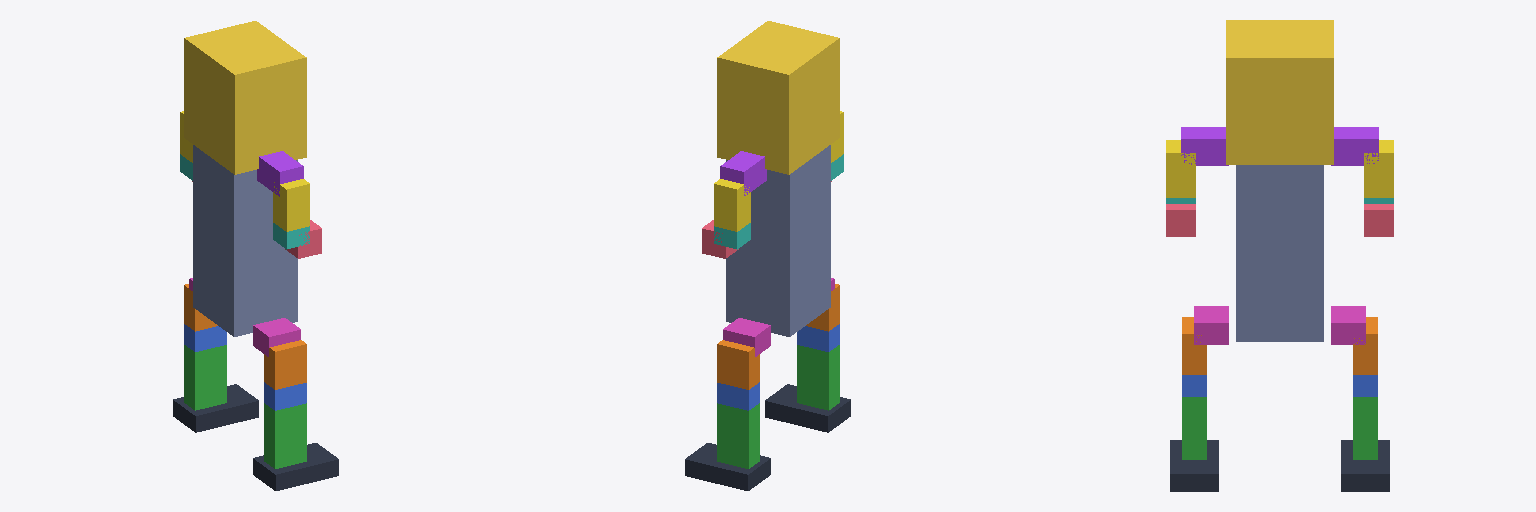
URDF robot description (pikachu_sample_links):
<?xml version="1.0" encoding="UTF-8"?>
<robot name="pikachu_sample_links">
  <!-- 骨盆半宽 -->
  <!-- 肩高/躯干高 -->
  <!-- 躯干前后厚 -->
  <!-- 躯干左右宽 -->
  
  
  <!-- 大腿长(重点) -->
  <!-- 小腿长(重点) -->
  
  
  
  
  
  
  
  
  
  
  
  <material name="torso_blue"><color rgba="0.55 0.60 0.75 1"/></material>
  <material name="head_yellow"><color rgba="0.98 0.85 0.30 1"/></material>
  <material name="leg_hip_pitch"><color rgba="0.90 0.35 0.80 1"/></material>
  <material name="leg_hip_roll"><color rgba="1.00 0.60 0.20 1"/></material>
  <material name="leg_hip_yaw"><color rgba="0.35 0.55 1.00 1"/></material>
  <material name="leg_knee"><color rgba="0.30 0.80 0.35 1"/></material>
  <material name="leg_ankle"><color rgba="0.25 0.28 0.35 1"/></material>
  <material name="arm_pitch"><color rgba="0.75 0.35 1.00 1"/></material>
  <material name="arm_roll"><color rgba="1.00 0.90 0.25 1"/></material>
  <material name="arm_yaw"><color rgba="0.30 0.85 0.80 1"/></material>
  <material name="arm_elbow"><color rgba="1.00 0.45 0.55 1"/></material>

  

  

  <link name="base_link"><visual><origin xyz="0 0 0.1" rpy="0 0 0"/><geometry><box size="0.08 0.09 0.2"/></geometry><material name="torso_blue"/></visual><inertial><origin xyz="0.000000000 0.000000000 0.100000000" rpy="0.000000000 0.000000000 0.000000000"/><mass value="2.16000"/><inertia ixx="0.008658" iyy="0.008352" izz="0.002610" ixy="0" ixz="0" iyz="0"/></inertial></link>

  <joint name="head_joint" type="revolute"><origin xyz="0 0 0.26" rpy="0 0 0"/><parent link="base_link"/><child link="head_link"/><axis xyz="0 1 0"/><limit lower="-0.8" upper="0.8" effort="2"/><velocity>2</velocity></joint>
  <link name="head_link"><visual><origin xyz="0 0 0" rpy="0 0 0"/><geometry><box size="0.09 0.11 0.12"/></geometry><material name="head_yellow"/></visual><inertial><origin xyz="0.000000000 0.000000000 0.000000000" rpy="0.000000000 0.000000000 0.000000000"/><mass value="1.78200"/><inertia ixx="0.003935" iyy="0.003341" izz="0.003000" ixy="0" ixz="0" iyz="0"/></inertial></link>

  <joint name="left_hip_pitch_joint" type="revolute"><origin xyz="0 0.0515 0" rpy="0 0 0"/><parent link="base_link"/><child link="left_hip_pitch_link"/><axis xyz="0 -1 0"/><limit lower="0" upper="2.44" effort="12.5"/><velocity>2</velocity></joint>
  <joint name="right_hip_pitch_joint" type="revolute"><origin xyz="0 -0.0515 0" rpy="0 0 0"/><parent link="base_link"/><child link="right_hip_pitch_link"/><axis xyz="0 -1 0"/><limit lower="0" upper="2.44" effort="12.5"/><velocity>2</velocity></joint>
  <joint name="left_arm_pitch_joint" type="revolute"><origin xyz="0 0.0515 0.2" rpy="0 0 0"/><parent link="base_link"/><child link="left_arm_pitch_link"/><axis xyz="0 -1 0"/><limit lower="-1.57" upper="1.57" effort="2"/><velocity>2</velocity></joint>
  <joint name="right_arm_pitch_joint" type="revolute"><origin xyz="0 -0.0515 0.2" rpy="0 0 0"/><parent link="base_link"/><child link="right_arm_pitch_link"/><axis xyz="0 -1 0"/><limit lower="-1.57" upper="1.57" effort="2"/><velocity>2</velocity></joint>

  
    <link name="left_hip_pitch_link"><visual><origin xyz="0 0.01775 0" rpy="0 0 0"/><geometry><box size="0.04 0.0355 0.025"/></geometry><material name="leg_hip_pitch"/></visual><inertial><origin xyz="0.000000000 0.017750000 0.000000000" rpy="0.000000000 0.000000000 0.000000000"/><mass value="0.05325"/><inertia ixx="0.000008" iyy="0.000010" izz="0.000013" ixy="0" ixz="0" iyz="0"/></inertial></link>
    <joint name="left_hip_roll_joint" type="revolute"><origin xyz="0 0.0355 0" rpy="0 0 0"/><parent link="left_hip_pitch_link"/><child link="left_hip_roll_link"/><axis xyz="1 0 0"/><limit lower="-0.09" upper="0.26" effort="9"/><velocity>1</velocity></joint>
    <link name="left_hip_roll_link"><visual><origin xyz="0 0 -0.023" rpy="0 0 0"/><geometry><box size="0.04 0.025 0.046"/></geometry><material name="leg_hip_roll"/></visual><inertial><origin xyz="0.000000000 0.000000000 -0.023000000" rpy="0.000000000 0.000000000 0.000000000"/><mass value="0.06900"/><inertia ixx="0.000016" iyy="0.000021" izz="0.000013" ixy="0" ixz="0" iyz="0"/></inertial></link>
    <joint name="left_hip_yaw_joint" type="revolute"><origin xyz="0 0 -0.046" rpy="0 0 0"/><parent link="left_hip_roll_link"/><child link="left_hip_yaw_link"/><axis xyz="0 0 1"/><limit lower="-0.09" upper="0.26" effort="9"/><velocity>1</velocity></joint>
    <link name="left_hip_yaw_link"><visual><origin xyz="0 0 -0.0125" rpy="0 0 0"/><geometry><box size="0.04 0.025 0.025"/></geometry><material name="leg_hip_yaw"/></visual><inertial><origin xyz="0.000000000 0.000000000 -0.012500000" rpy="0.000000000 0.000000000 0.000000000"/><mass value="0.03750"/><inertia ixx="0.000004" iyy="0.000007" izz="0.000007" ixy="0" ixz="0" iyz="0"/></inertial></link>
    <joint name="left_knee_joint" type="revolute"><origin xyz="0 0 -0.025" rpy="0 0 0"/><parent link="left_hip_yaw_link"/><child link="left_knee_link"/><axis xyz="0 1 0"/><limit lower="0" upper="1.57" effort="12.5"/><velocity>3</velocity></joint>
    <link name="left_knee_link"><visual><origin xyz="0 0 -0.035" rpy="0 0 0"/><geometry><box size="0.04 0.025 0.070"/></geometry><material name="leg_knee"/></visual><inertial><origin xyz="0.000000000 0.000000000 -0.035000000" rpy="0.000000000 0.000000000 0.000000000"/><mass value="0.10500"/><inertia ixx="0.000048" iyy="0.000057" izz="0.000019" ixy="0" ixz="0" iyz="0"/></inertial></link>
    <joint name="left_ankle_joint" type="revolute"><origin xyz="0 0 -0.07" rpy="0 0 0"/><parent link="left_knee_link"/><child link="left_ankle_link"/><axis xyz="0 -1 0"/><limit lower="-0.52" upper="1.05" effort="9"/><velocity>2</velocity></joint>
    <link name="left_ankle_link"><visual><origin xyz="0.013333333333333334 0 -0.01" rpy="0 0 0"/><geometry><box size="0.08 0.05 0.02"/></geometry><material name="leg_ankle"/></visual><inertial><origin xyz="0.013333333 0.000000000 -0.010000000" rpy="0.000000000 0.000000000 0.000000000"/><mass value="0.12000"/><inertia ixx="0.000029" iyy="0.000068" izz="0.000089" ixy="0" ixz="0" iyz="0"/></inertial></link>
  
  
    <link name="right_hip_pitch_link"><visual><origin xyz="0 -0.01775 0" rpy="0 0 0"/><geometry><box size="0.04 0.0355 0.025"/></geometry><material name="leg_hip_pitch"/></visual><inertial><origin xyz="0.000000000 -0.017750000 0.000000000" rpy="0.000000000 0.000000000 0.000000000"/><mass value="0.05325"/><inertia ixx="0.000008" iyy="0.000010" izz="0.000013" ixy="0" ixz="0" iyz="0"/></inertial></link>
    <joint name="right_hip_roll_joint" type="revolute"><origin xyz="0 -0.0355 0" rpy="0 0 0"/><parent link="right_hip_pitch_link"/><child link="right_hip_roll_link"/><axis xyz="-1 0 0"/><limit lower="-0.09" upper="0.26" effort="9"/><velocity>1</velocity></joint>
    <link name="right_hip_roll_link"><visual><origin xyz="0 0 -0.023" rpy="0 0 0"/><geometry><box size="0.04 0.025 0.046"/></geometry><material name="leg_hip_roll"/></visual><inertial><origin xyz="0.000000000 0.000000000 -0.023000000" rpy="0.000000000 0.000000000 0.000000000"/><mass value="0.06900"/><inertia ixx="0.000016" iyy="0.000021" izz="0.000013" ixy="0" ixz="0" iyz="0"/></inertial></link>
    <joint name="right_hip_yaw_joint" type="revolute"><origin xyz="0 0 -0.046" rpy="0 0 0"/><parent link="right_hip_roll_link"/><child link="right_hip_yaw_link"/><axis xyz="0 0 -1"/><limit lower="-0.09" upper="0.26" effort="9"/><velocity>1</velocity></joint>
    <link name="right_hip_yaw_link"><visual><origin xyz="0 0 -0.0125" rpy="0 0 0"/><geometry><box size="0.04 0.025 0.025"/></geometry><material name="leg_hip_yaw"/></visual><inertial><origin xyz="0.000000000 0.000000000 -0.012500000" rpy="0.000000000 0.000000000 0.000000000"/><mass value="0.03750"/><inertia ixx="0.000004" iyy="0.000007" izz="0.000007" ixy="0" ixz="0" iyz="0"/></inertial></link>
    <joint name="right_knee_joint" type="revolute"><origin xyz="0 0 -0.025" rpy="0 0 0"/><parent link="right_hip_yaw_link"/><child link="right_knee_link"/><axis xyz="0 1 0"/><limit lower="0" upper="1.57" effort="12.5"/><velocity>3</velocity></joint>
    <link name="right_knee_link"><visual><origin xyz="0 0 -0.035" rpy="0 0 0"/><geometry><box size="0.04 0.025 0.070"/></geometry><material name="leg_knee"/></visual><inertial><origin xyz="0.000000000 0.000000000 -0.035000000" rpy="0.000000000 0.000000000 0.000000000"/><mass value="0.10500"/><inertia ixx="0.000048" iyy="0.000057" izz="0.000019" ixy="0" ixz="0" iyz="0"/></inertial></link>
    <joint name="right_ankle_joint" type="revolute"><origin xyz="0 0 -0.07" rpy="0 0 0"/><parent link="right_knee_link"/><child link="right_ankle_link"/><axis xyz="0 -1 0"/><limit lower="-0.52" upper="1.05" effort="9"/><velocity>2</velocity></joint>
    <link name="right_ankle_link"><visual><origin xyz="0.013333333333333334 0 -0.01" rpy="0 0 0"/><geometry><box size="0.08 0.05 0.02"/></geometry><material name="leg_ankle"/></visual><inertial><origin xyz="0.013333333 0.000000000 -0.010000000" rpy="0.000000000 0.000000000 0.000000000"/><mass value="0.12000"/><inertia ixx="0.000029" iyy="0.000068" izz="0.000089" ixy="0" ixz="0" iyz="0"/></inertial></link>
  
  
    <link name="left_arm_pitch_link"><visual><origin xyz="0 0.0245 0" rpy="0 0 0"/><geometry><box size="0.03 0.049 0.03"/></geometry><material name="arm_pitch"/></visual><inertial><origin xyz="0.000000000 0.024500000 0.000000000" rpy="0.000000000 0.000000000 0.000000000"/><mass value="0.06615"/><inertia ixx="0.000018" iyy="0.000010" izz="0.000018" ixy="0" ixz="0" iyz="0"/></inertial></link>
    <joint name="left_arm_roll_joint" type="fixed"><origin xyz="0 0.049 0" rpy="0 0 0"/><parent link="left_arm_pitch_link"/><child link="left_arm_roll_link"/><velocity>2</velocity></joint>
    <link name="left_arm_roll_link"><visual><origin xyz="0 0 -0.0255" rpy="0 0 0"/><geometry><box size="0.03 0.03 0.051"/></geometry><material name="arm_roll"/></visual><inertial><origin xyz="0.000000000 0.000000000 -0.025500000" rpy="0.000000000 0.000000000 0.000000000"/><mass value="0.06885"/><inertia ixx="0.000020" iyy="0.000020" izz="0.000010" ixy="0" ixz="0" iyz="0"/></inertial></link>
    <joint name="left_arm_yaw_joint" type="fixed"><origin xyz="0 0 -0.051" rpy="0 0 0"/><parent link="left_arm_roll_link"/><child link="left_arm_yaw_link"/><velocity>2</velocity></joint>
    <link name="left_arm_yaw_link"><visual><origin xyz="0 0 -0.0105" rpy="0 0 0"/><geometry><box size="0.03 0.03 0.021"/></geometry><material name="arm_yaw"/></visual><inertial><origin xyz="0.000000000 0.000000000 -0.010500000" rpy="0.000000000 0.000000000 0.000000000"/><mass value="0.02835"/><inertia ixx="0.000003" iyy="0.000003" izz="0.000004" ixy="0" ixz="0" iyz="0"/></inertial></link>
    <joint name="left_elbow_joint" type="fixed"><origin xyz="0 0 -0.021" rpy="0 -1.57 0"/><parent link="left_arm_yaw_link"/><child link="left_elbow_link"/><velocity>2</velocity></joint>
    <link name="left_elbow_link"><visual><origin xyz="0 0 -0.015" rpy="0 0 0"/><geometry><box size="0.03 0.03 0.03"/></geometry><material name="arm_elbow"/></visual><inertial><origin xyz="0.000000000 0.000000000 -0.015000000" rpy="0.000000000 0.000000000 0.000000000"/><mass value="0.04050"/><inertia ixx="0.000006" iyy="0.000006" izz="0.000006" ixy="0" ixz="0" iyz="0"/></inertial></link>
  
  
    <link name="right_arm_pitch_link"><visual><origin xyz="0 -0.0245 0" rpy="0 0 0"/><geometry><box size="0.03 0.049 0.03"/></geometry><material name="arm_pitch"/></visual><inertial><origin xyz="0.000000000 -0.024500000 0.000000000" rpy="0.000000000 0.000000000 0.000000000"/><mass value="0.06615"/><inertia ixx="0.000018" iyy="0.000010" izz="0.000018" ixy="0" ixz="0" iyz="0"/></inertial></link>
    <joint name="right_arm_roll_joint" type="revolute"><origin xyz="0 -0.049 0" rpy="0 0 0"/><parent link="right_arm_pitch_link"/><child link="right_arm_roll_link"/><axis xyz="-1 0 0"/><limit lower="-1.57" upper="1.57" effort="2"/><velocity>2</velocity></joint>
    <link name="right_arm_roll_link"><visual><origin xyz="0 0 -0.0255" rpy="0 0 0"/><geometry><box size="0.03 0.03 0.051"/></geometry><material name="arm_roll"/></visual><inertial><origin xyz="0.000000000 0.000000000 -0.025500000" rpy="0.000000000 0.000000000 0.000000000"/><mass value="0.06885"/><inertia ixx="0.000020" iyy="0.000020" izz="0.000010" ixy="0" ixz="0" iyz="0"/></inertial></link>
    <joint name="right_arm_yaw_joint" type="revolute"><origin xyz="0 0 -0.051" rpy="0 0 0"/><parent link="right_arm_roll_link"/><child link="right_arm_yaw_link"/><axis xyz="0 0 -1"/><limit lower="-1.57" upper="1.57" effort="2"/><velocity>2</velocity></joint>
    <link name="right_arm_yaw_link"><visual><origin xyz="0 0 -0.0105" rpy="0 0 0"/><geometry><box size="0.03 0.03 0.021"/></geometry><material name="arm_yaw"/></visual><inertial><origin xyz="0.000000000 0.000000000 -0.010500000" rpy="0.000000000 0.000000000 0.000000000"/><mass value="0.02835"/><inertia ixx="0.000003" iyy="0.000003" izz="0.000004" ixy="0" ixz="0" iyz="0"/></inertial></link>
    <joint name="right_elbow_joint" type="fixed"><origin xyz="0 0 -0.021" rpy="0 -1.57 0"/><parent link="right_arm_yaw_link"/><child link="right_elbow_link"/><velocity>2</velocity></joint>
    <link name="right_elbow_link"><visual><origin xyz="0 0 -0.015" rpy="0 0 0"/><geometry><box size="0.03 0.03 0.03"/></geometry><material name="arm_elbow"/></visual><inertial><origin xyz="0.000000000 0.000000000 -0.015000000" rpy="0.000000000 0.000000000 0.000000000"/><mass value="0.04050"/><inertia ixx="0.000006" iyy="0.000006" izz="0.000006" ixy="0" ixz="0" iyz="0"/></inertial></link>
  
</robot>

--- Render facts (derived) ---
Views: 3 orthographic renders of the robot side by side, from view 1: azimuth 30°, elevation 25°; view 2: azimuth 150°, elevation 25°; view 3: azimuth 270°, elevation 25°.
Model pikachu_sample_links with 20 links and 19 joints (15 revolute, 4 fixed), rooted at base_link, posed all joints at 0.
Visible links, largest first — view 1: head_link, base_link, left_knee_link, right_knee_link, left_ankle_link, right_ankle_link, right_hip_roll_link, right_arm_roll_link, right_arm_pitch_link, right_hip_pitch_link, right_hip_yaw_link, left_hip_yaw_link (+3 smaller); view 2: head_link, base_link, right_knee_link, left_knee_link, right_ankle_link, left_ankle_link, left_hip_roll_link, left_arm_roll_link, left_arm_pitch_link, left_hip_pitch_link, left_hip_yaw_link, right_hip_yaw_link (+3 smaller); view 3: head_link, base_link, left_ankle_link, right_ankle_link, left_arm_pitch_link, right_arm_pitch_link, left_knee_link, right_knee_link, right_arm_roll_link, left_arm_roll_link, right_hip_pitch_link, left_hip_pitch_link (+6 smaller).
Link boxes in pixels (x1,y1,x2,y2): head_link: (184,21,306,174); base_link: (193,145,297,336); left_knee_link: (184,345,226,410); right_knee_link: (264,403,306,468); left_ankle_link: (173,384,258,432); right_ankle_link: (253,443,338,490); right_hip_roll_link: (264,340,306,389); right_arm_roll_link: (273,179,309,231); right_arm_pitch_link: (257,151,303,196); right_hip_pitch_link: (253,318,300,356); right_hip_yaw_link: (264,382,306,410); left_hip_yaw_link: (184,324,226,351); head_link: (717,21,839,174); base_link: (726,145,830,336); right_knee_link: (797,345,839,410); left_knee_link: (717,403,759,468); right_ankle_link: (765,384,850,432); left_ankle_link: (685,443,770,490); left_hip_roll_link: (717,340,759,389); left_arm_roll_link: (714,179,750,231); left_arm_pitch_link: (720,151,766,195); left_hip_pitch_link: (723,318,770,356); left_hip_yaw_link: (717,382,759,410); right_hip_yaw_link: (797,324,839,351); head_link: (1226,20,1333,164); base_link: (1236,165,1323,341); left_ankle_link: (1341,440,1389,491); right_ankle_link: (1170,440,1218,491); left_arm_pitch_link: (1331,127,1378,165); right_arm_pitch_link: (1181,127,1228,165); left_knee_link: (1353,397,1377,459); right_knee_link: (1182,397,1206,459); right_arm_roll_link: (1166,140,1195,197); left_arm_roll_link: (1364,140,1393,197); right_hip_pitch_link: (1194,306,1228,344); left_hip_pitch_link: (1331,306,1365,344).
Size in the robot's own frame: 0.0983 by 0.231 by 0.481 metres.
Geometry: primitives only (box / cylinder / sphere), no mesh files.
